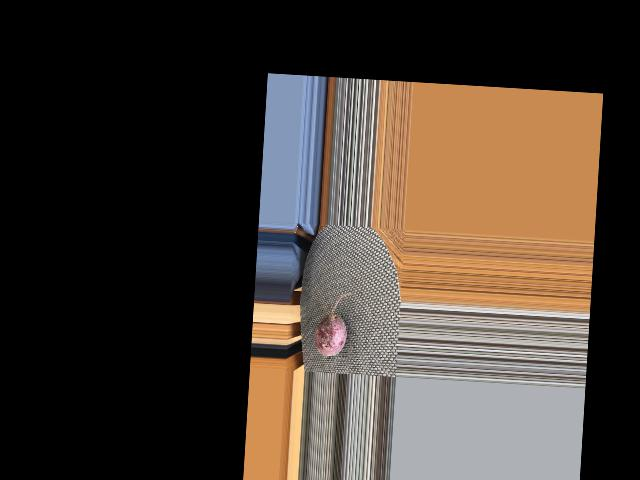beet: (313, 290, 352, 357)
